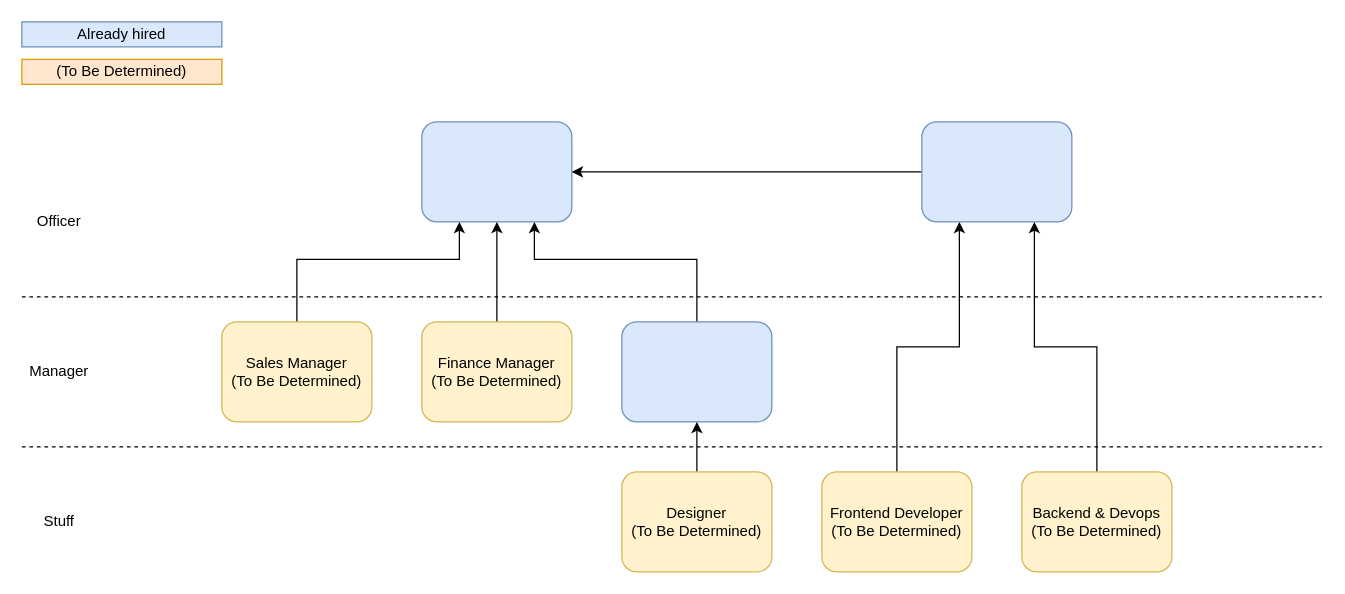
Some shapes in this 1345 by 594 pixel diagram are drawn without their labels. Each missing label, with the box of its shape:
CEO Tianqing: (421, 121, 572, 222)
CTO David: (921, 121, 1072, 222)
Product Manager Xiangwei: (621, 321, 772, 422)
